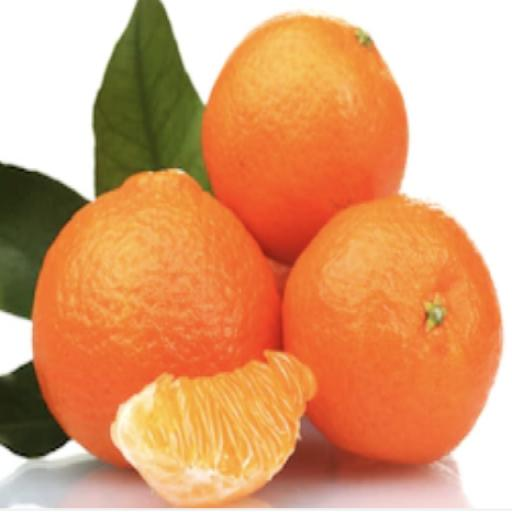orange: (33, 171, 281, 465), (283, 196, 502, 462), (203, 12, 408, 263), (111, 351, 316, 506), (267, 258, 291, 297)
